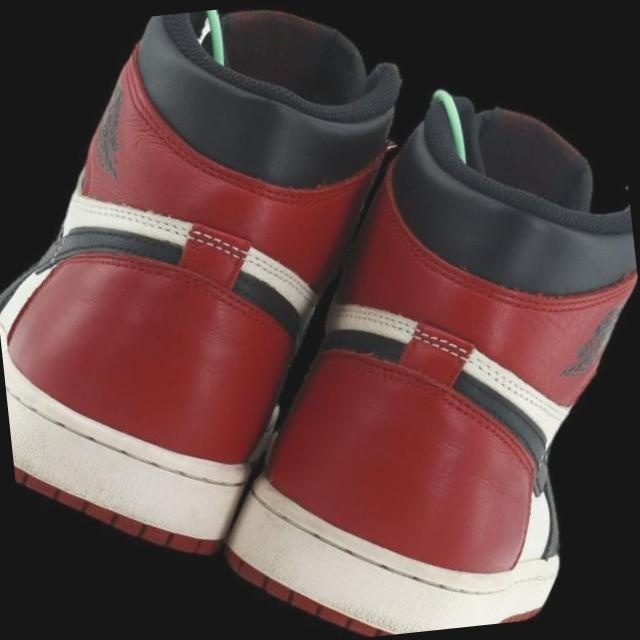nike_original_jordan: (153, 23, 640, 640), (0, 0, 487, 591)
